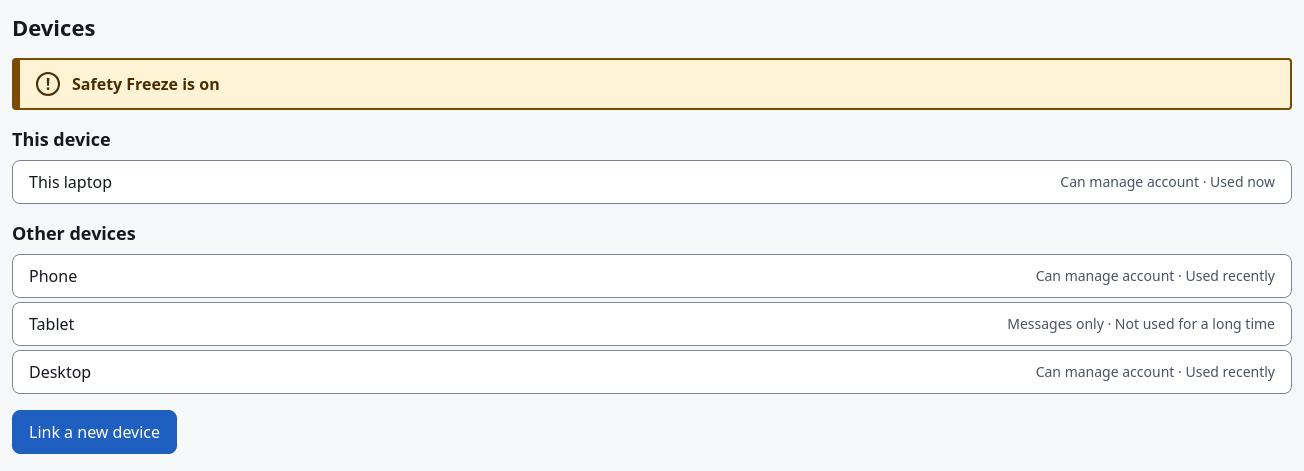
Scenario: Devices screen › Safety Freeze is shown on the reserved surface and no device change is offered
What coordinates should you click on to do the following:
click the button "Phone Can manage account · Used recently"
I would click on:
 (53, 276)
Its box is top-left (12, 254), bottom-right (1292, 298).
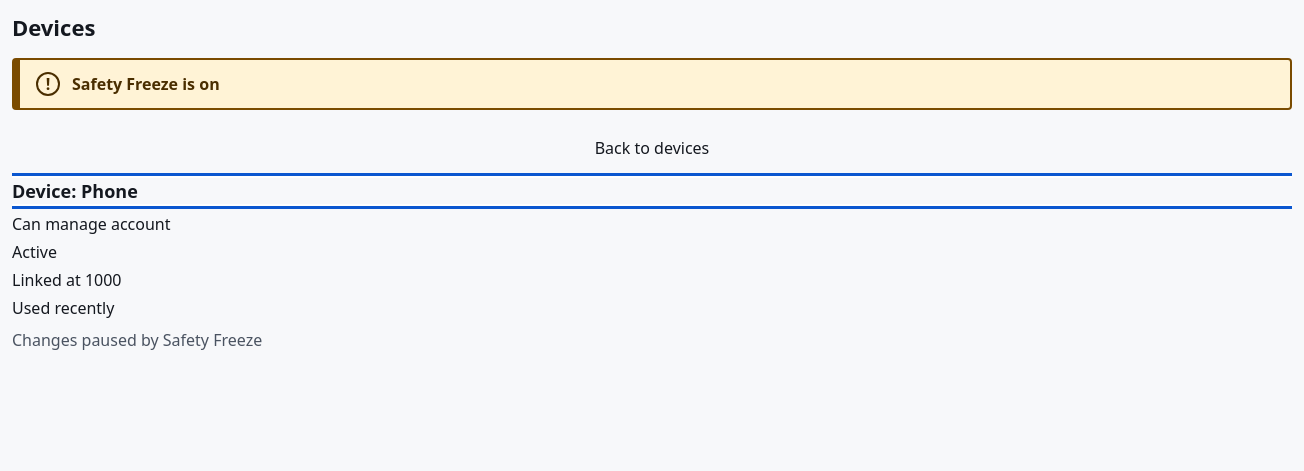
expect the text "Changes paused by Safety Freeze" is shown: met, box top-left (12, 328), bottom-right (262, 352)
